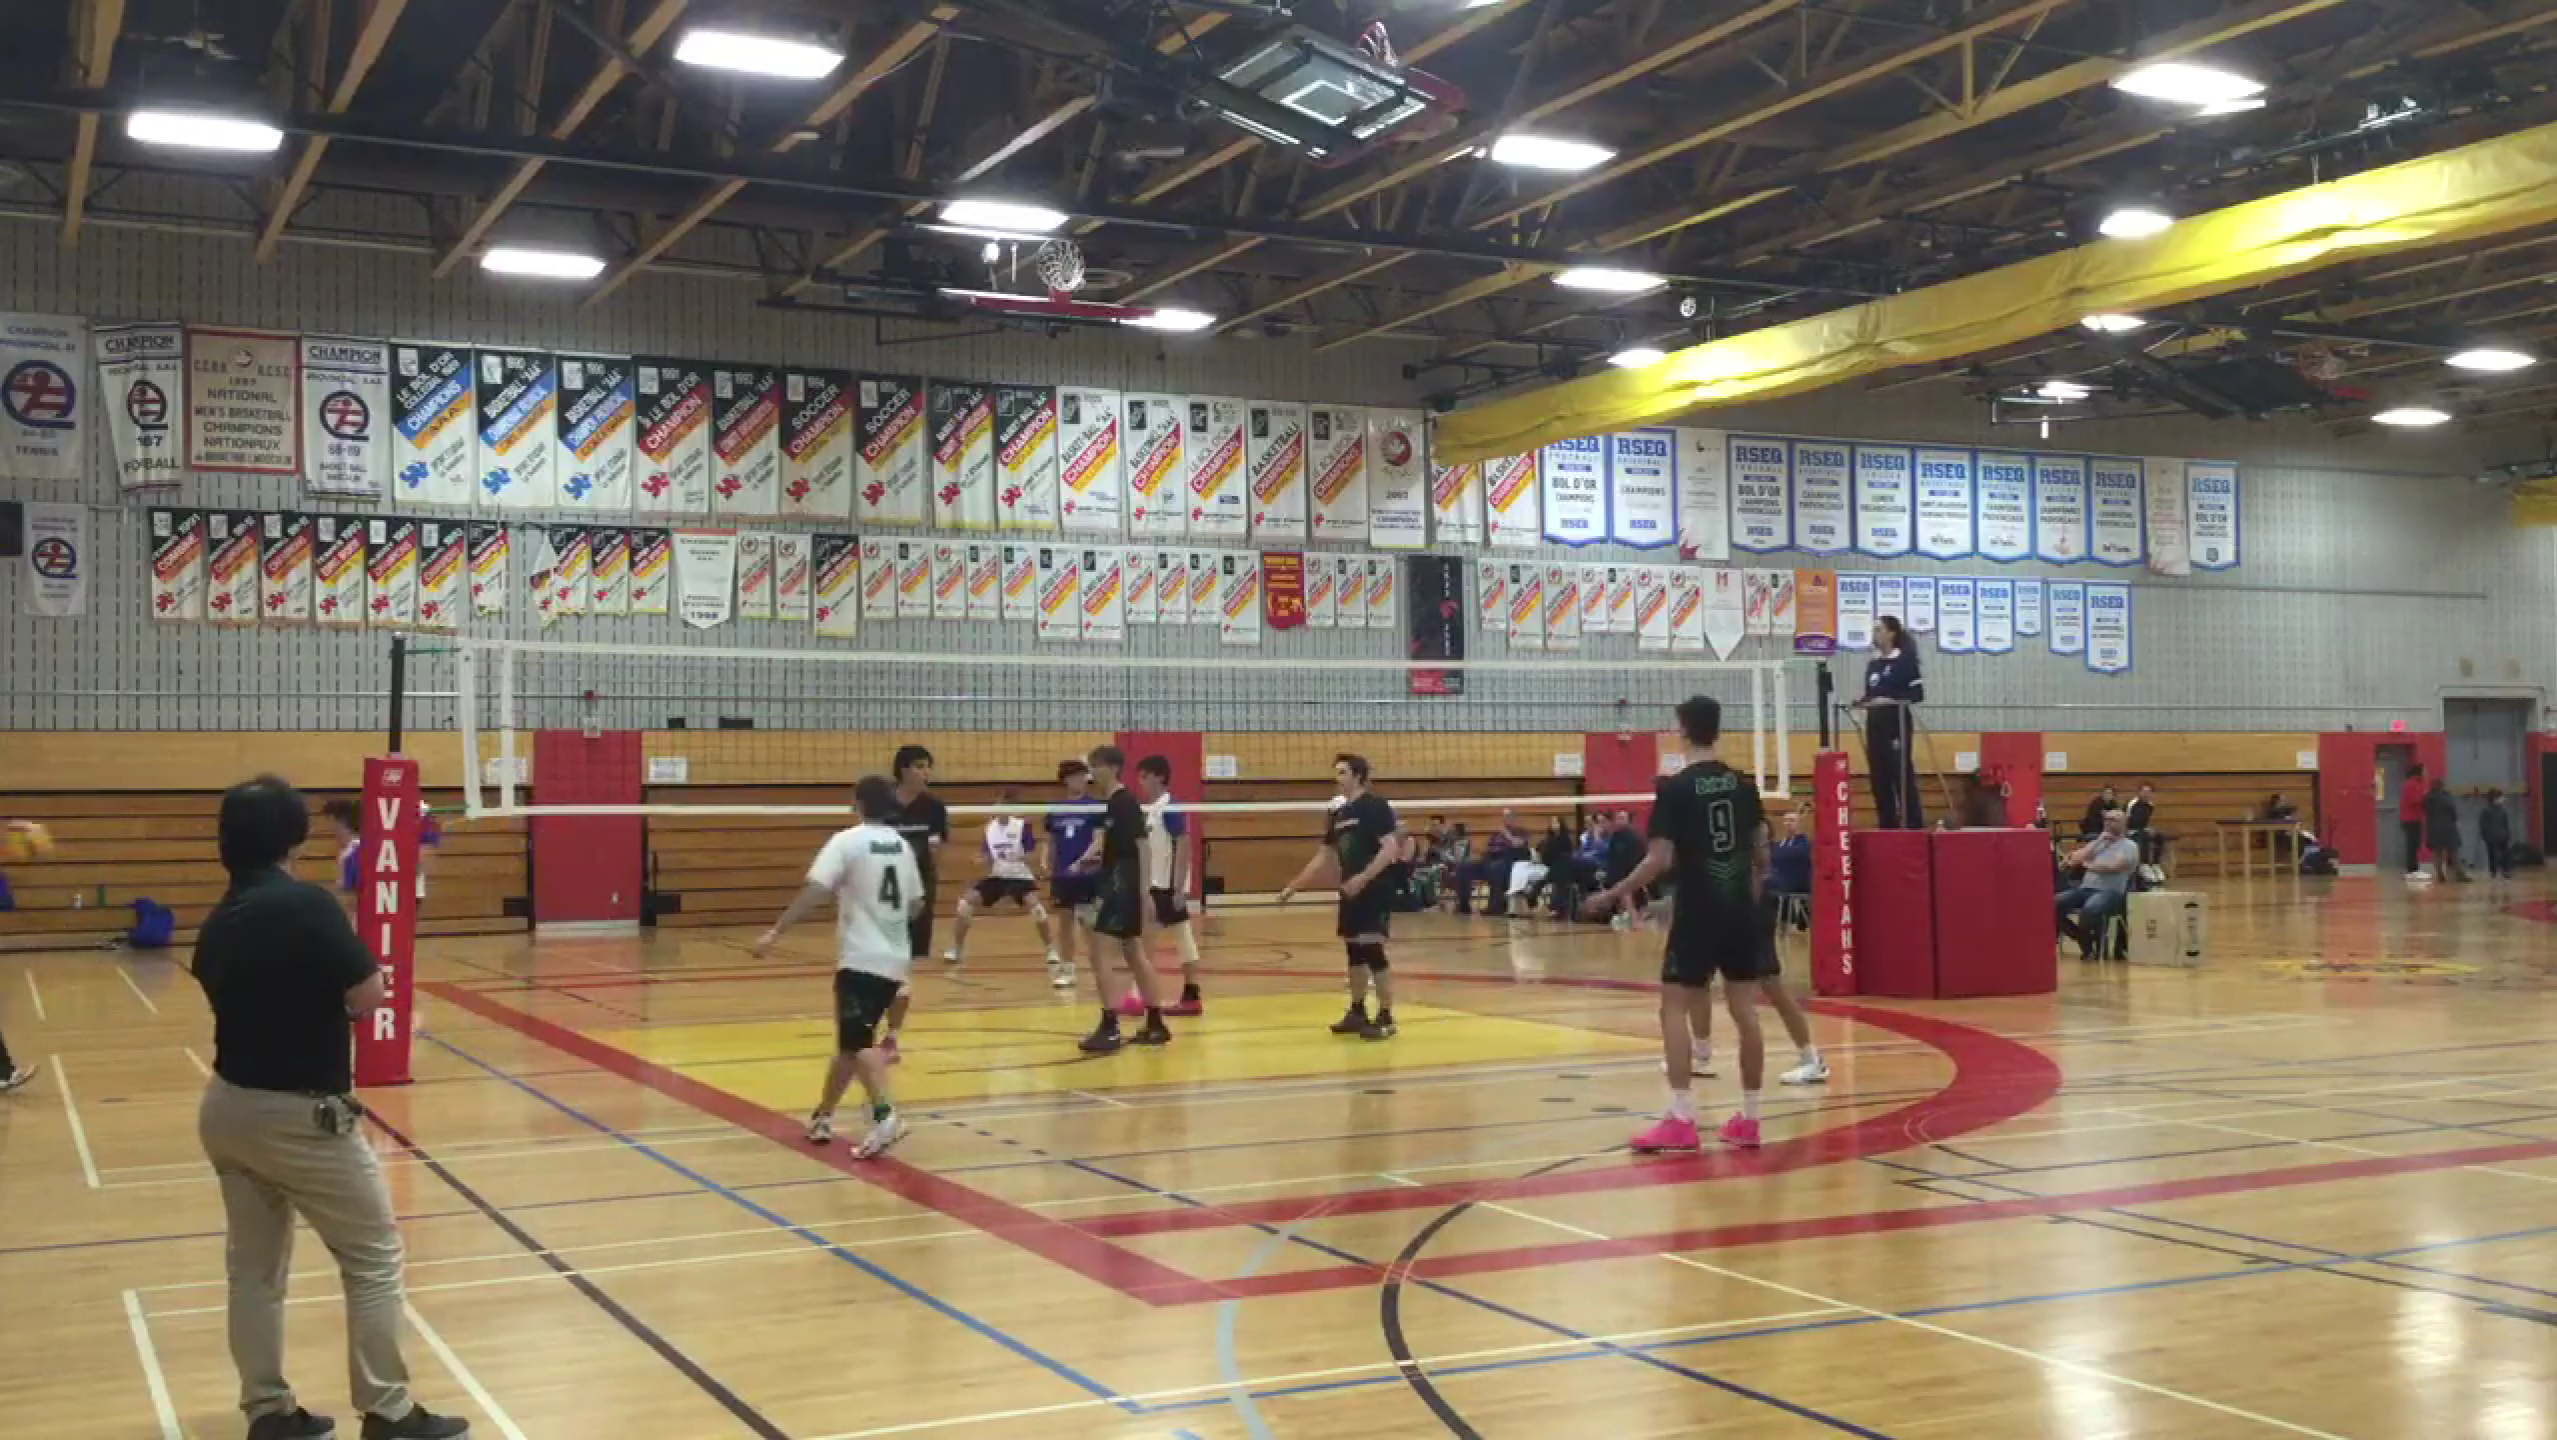Ball: (4, 817, 56, 866)
